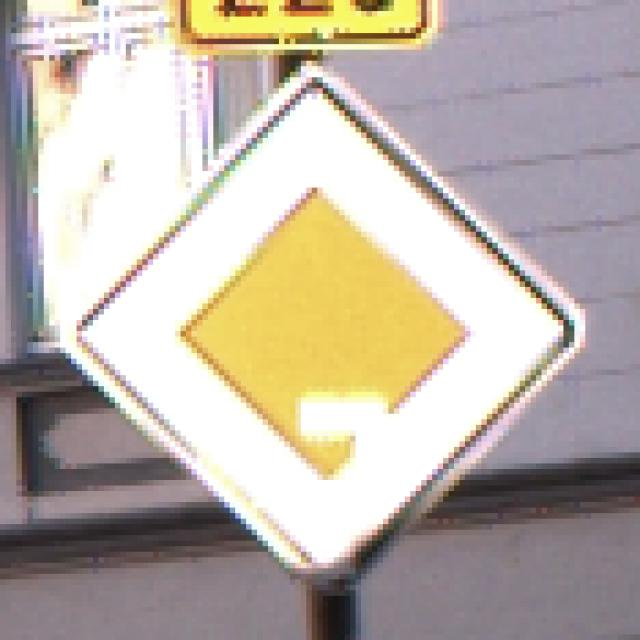Main Road: (61, 56, 581, 586)
